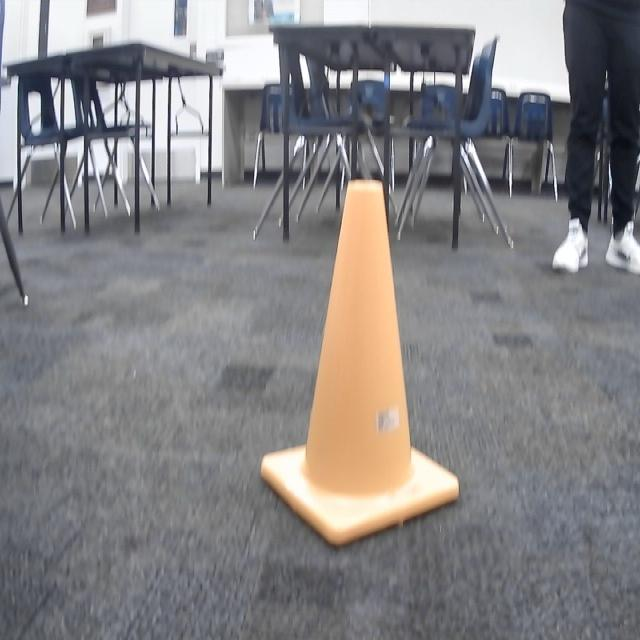cone: (260, 175, 460, 547)
